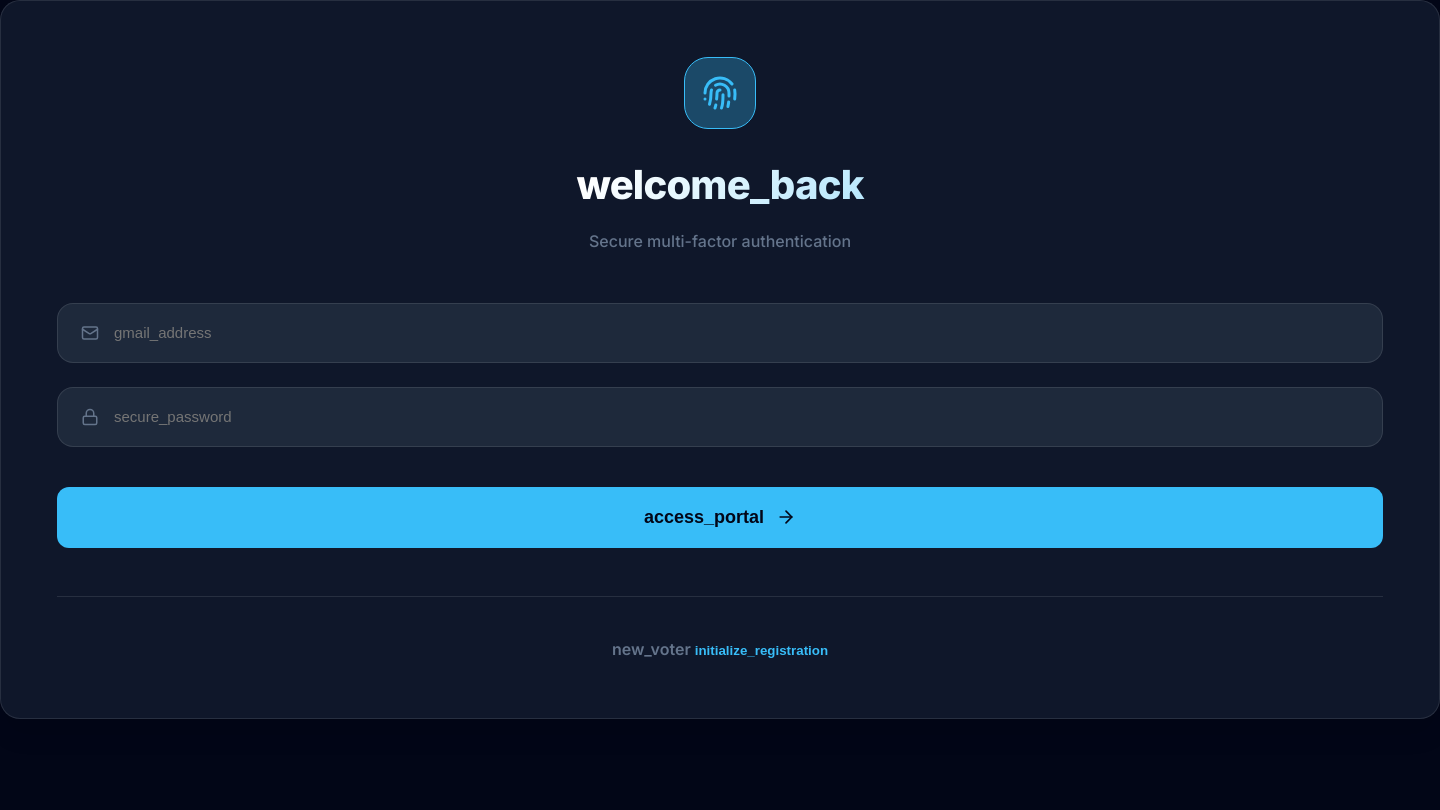
Test: LoginForm › shows error for invalid email
Type "invalid-email" into the field named "Email Address" at (720, 333), box [57,303,1383,363]
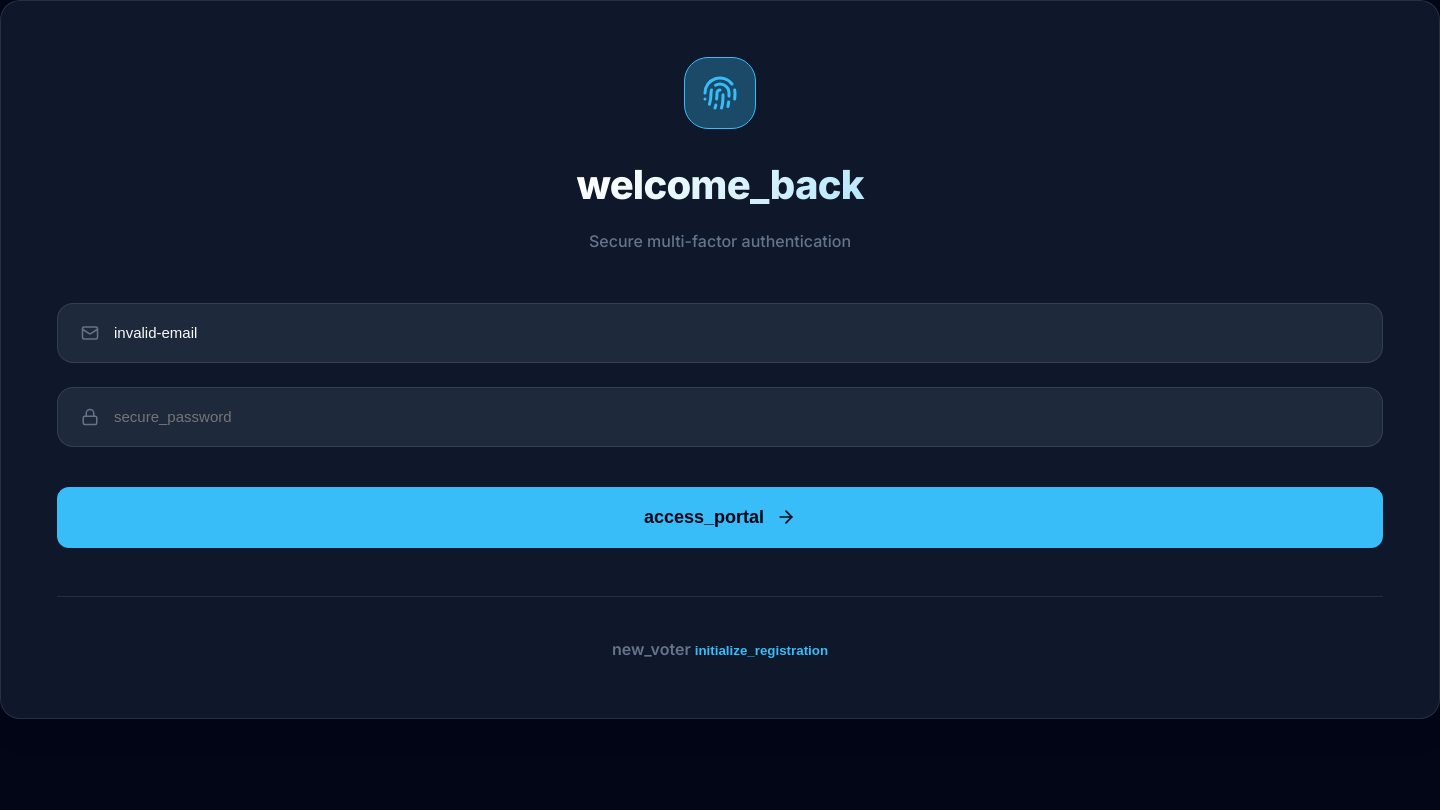
Submit the form named "Email Address", box [57,303,1383,548]
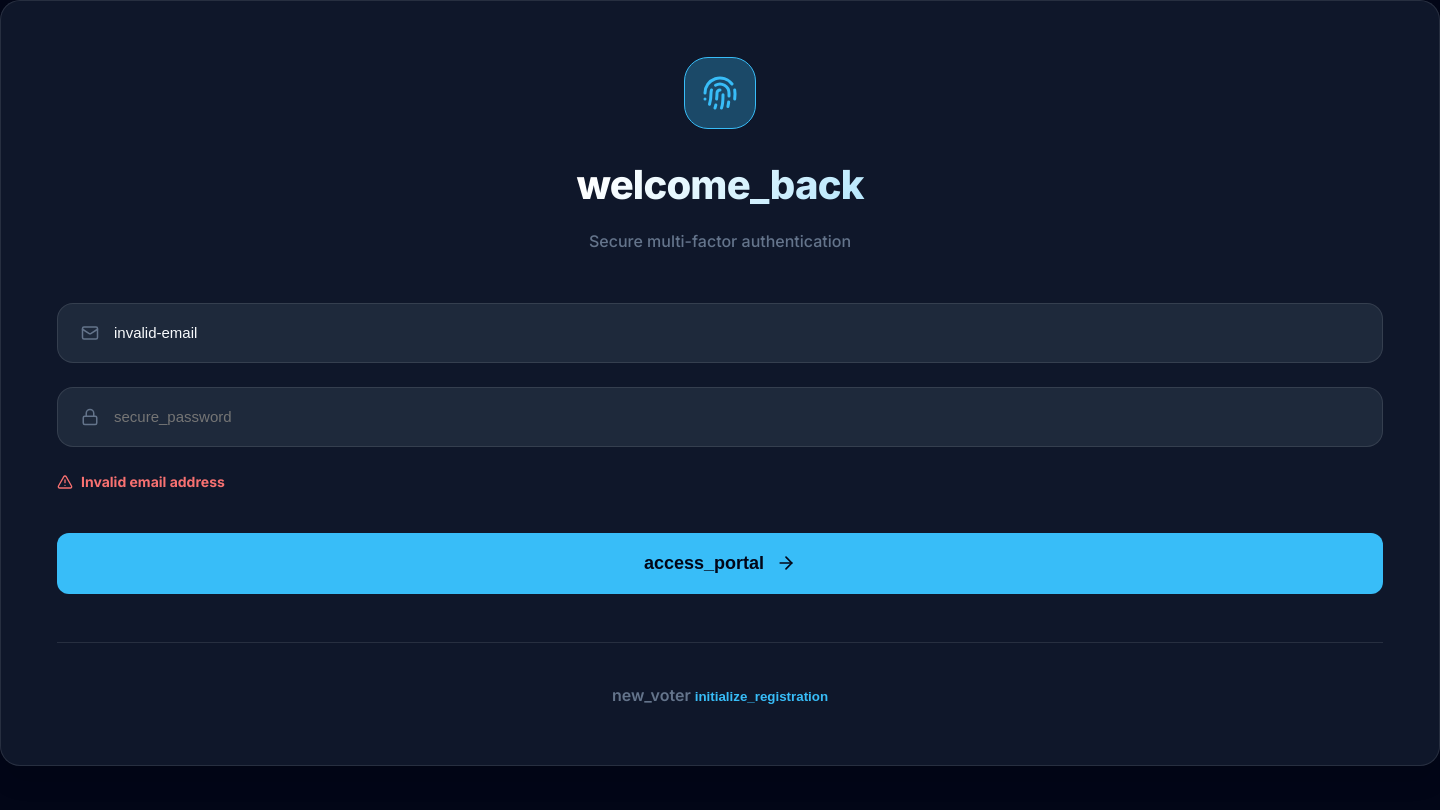
Check: the text "Invalid email address" is shown, box [57,473,225,490]
